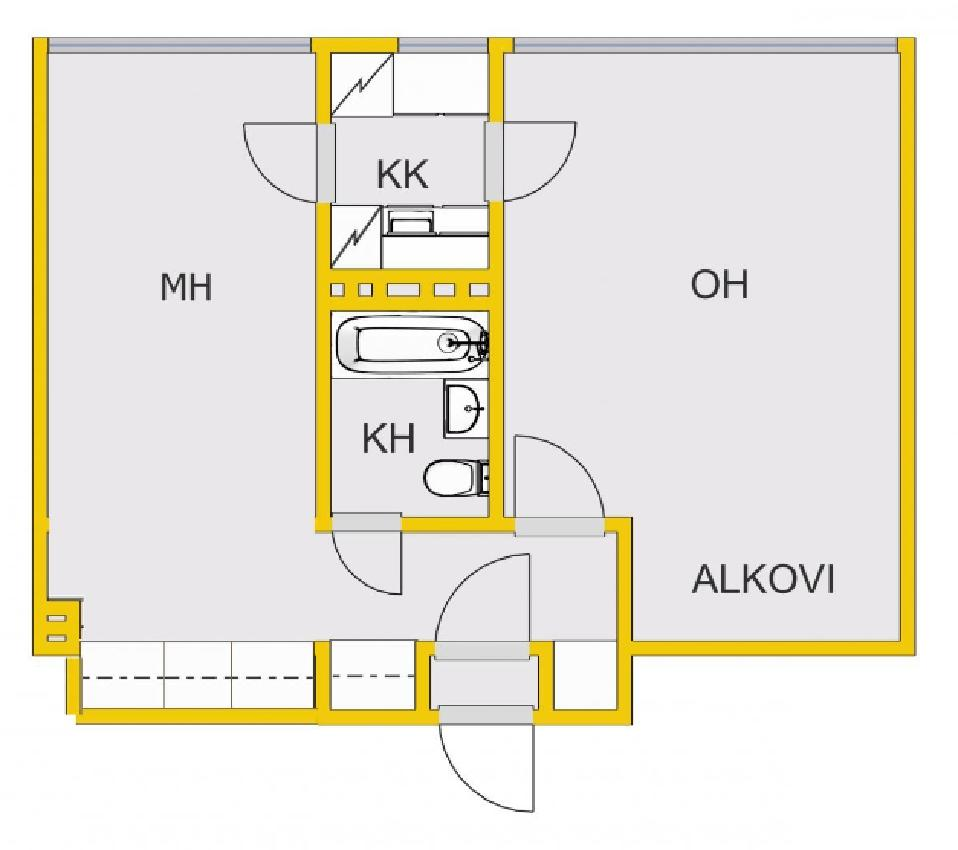door: (431, 552, 551, 820), (508, 429, 606, 542), (481, 117, 585, 211), (241, 117, 342, 212), (330, 510, 408, 602)
window: (47, 54, 620, 708), (499, 50, 899, 640), (331, 52, 487, 273), (329, 311, 488, 517), (510, 36, 897, 56), (42, 33, 311, 59), (398, 30, 486, 51)
